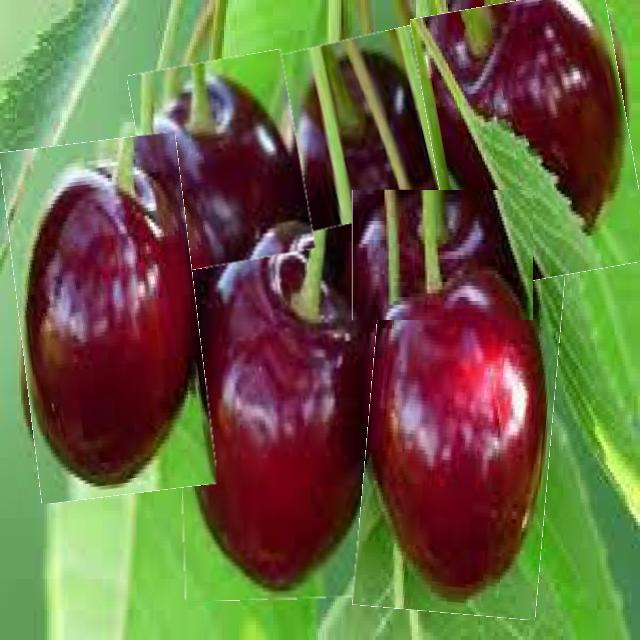cherry: (176, 223, 383, 600), (359, 255, 558, 617), (9, 136, 206, 500), (421, 0, 640, 285), (135, 55, 307, 269), (279, 31, 446, 224), (352, 190, 533, 320)
